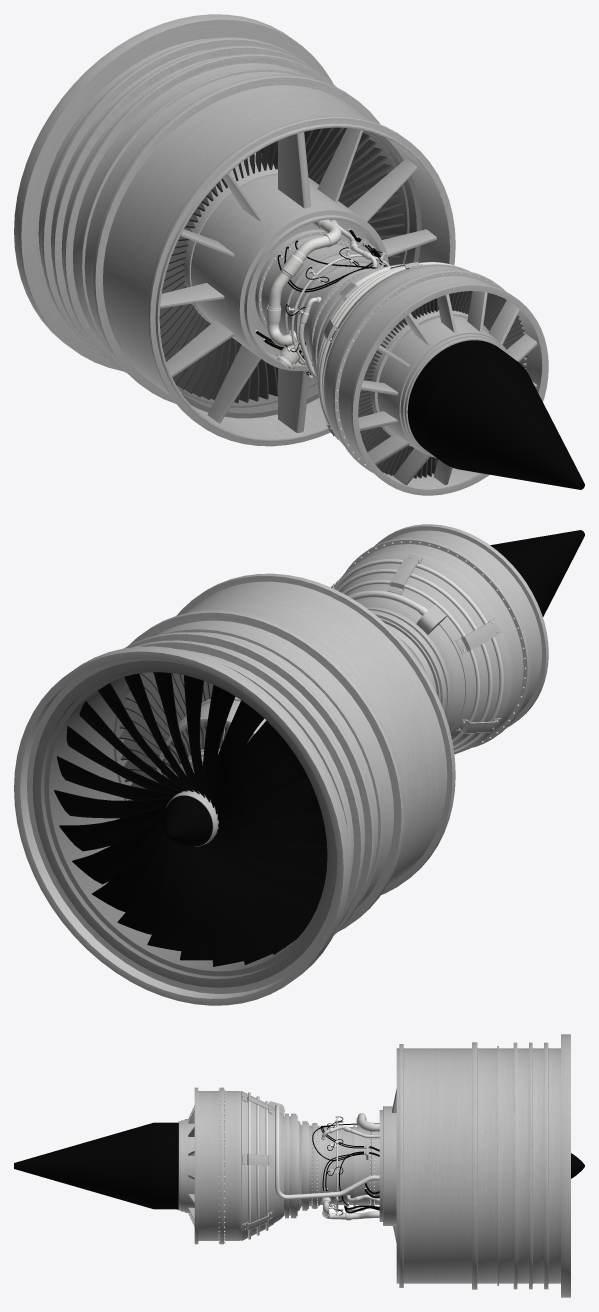
The model's file is OPT_JetEngine_01_Compressed.gltf.
3 renders of one model, top to bottom at view 1: azimuth 30°, elevation 25°; view 2: azimuth 150°, elevation 25°; view 3: azimuth 270°, elevation 25°, orthographic. The views are drawn at different scales.
Visible parts, largest first — view 1: Cylinder.024, Cylinder.049, Cylinder.008, Cylinder.023, Cube.056, Cylinder.553, Cube.001, Cylinder.154, Cylinder.554, Cylinder.043, Cylinder.002, Plane.028 (+5 smaller); view 2: Cylinder.024, Cube.049, Cylinder.023, Cylinder.002, Cylinder.008, Cube.056, Cylinder.559, Cylinder.138, BezierCircle.003, BezierCircle.002, BezierCircle.001, Cube.004 (+2 smaller); view 3: Cylinder.024, Cylinder.023, Cylinder.008, Cylinder.049, Circle, Cylinder.064, Cylinder.043, Cylinder.138, Cylinder.061, BezierCircle.002, Plane.025, BezierCircle.001 (+1 smaller).
Boxes of the visible parts, left/top/right/bottom form: Cylinder.024: left=14, top=14, right=455, bottom=446; Cylinder.049: left=191, top=153, right=388, bottom=370; Cylinder.008: left=407, top=340, right=584, bottom=489; Cylinder.023: left=311, top=264, right=548, bottom=495; Cube.056: left=159, top=127, right=404, bottom=403; Cylinder.553: left=160, top=128, right=436, bottom=423; Cube.001: left=358, top=291, right=537, bottom=485; Cylinder.154: left=278, top=132, right=310, bottom=432; Cylinder.554: left=358, top=291, right=527, bottom=478; Cylinder.043: left=377, top=316, right=510, bottom=457; Cylinder.002: left=180, top=127, right=421, bottom=418; Plane.028: left=266, top=219, right=333, bottom=346; Cylinder.024: left=14, top=573, right=455, bottom=1005; Cube.049: left=54, top=672, right=327, bottom=966; Cylinder.023: left=339, top=524, right=548, bottom=751; Cylinder.002: left=32, top=660, right=337, bottom=987; Cylinder.008: left=490, top=530, right=584, bottom=616; Cube.056: left=119, top=672, right=213, bottom=789; Cylinder.559: left=162, top=795, right=212, bottom=846; Cylinder.138: left=331, top=554, right=501, bottom=733; BezierCircle.003: left=333, top=559, right=503, bottom=754; BezierCircle.002: left=336, top=569, right=492, bottom=750; BezierCircle.001: left=342, top=580, right=480, bottom=743; Cube.004: left=160, top=722, right=252, bottom=778; Cylinder.024: left=396, top=1034, right=570, bottom=1297; Cylinder.023: left=194, top=1087, right=297, bottom=1244; Cylinder.008: left=14, top=1122, right=178, bottom=1209; Cylinder.049: left=309, top=1106, right=396, bottom=1225; Circle: left=274, top=1103, right=379, bottom=1199; Cylinder.064: left=297, top=1121, right=308, bottom=1210; Cylinder.043: left=184, top=1119, right=194, bottom=1212; Cylinder.138: left=242, top=1095, right=272, bottom=1230; Cylinder.061: left=178, top=1120, right=184, bottom=1211; BezierCircle.002: left=256, top=1096, right=259, bottom=1235; Plane.025: left=321, top=1197, right=379, bottom=1220; BezierCircle.001: left=265, top=1101, right=268, bottom=1230.
Bounding box in the file's own units: 5.83 × 5.83 × 12.63.
Materials: 8 (6 with a texture image).
